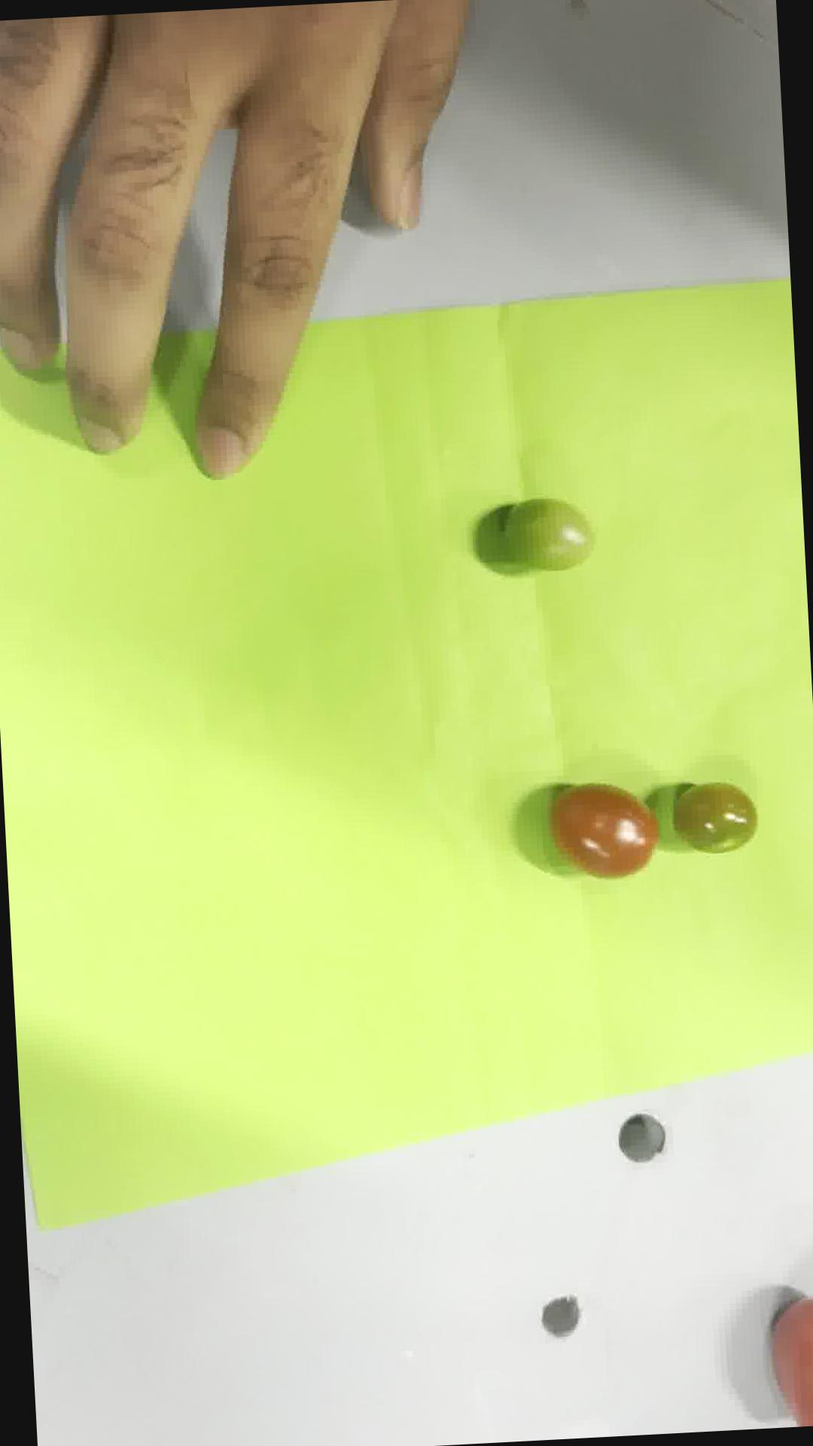green_cherry_tomato: (501, 499, 594, 569)
red_cherry_tomato: (550, 784, 657, 876)
yellow_cherry_tomato: (672, 782, 756, 853)
